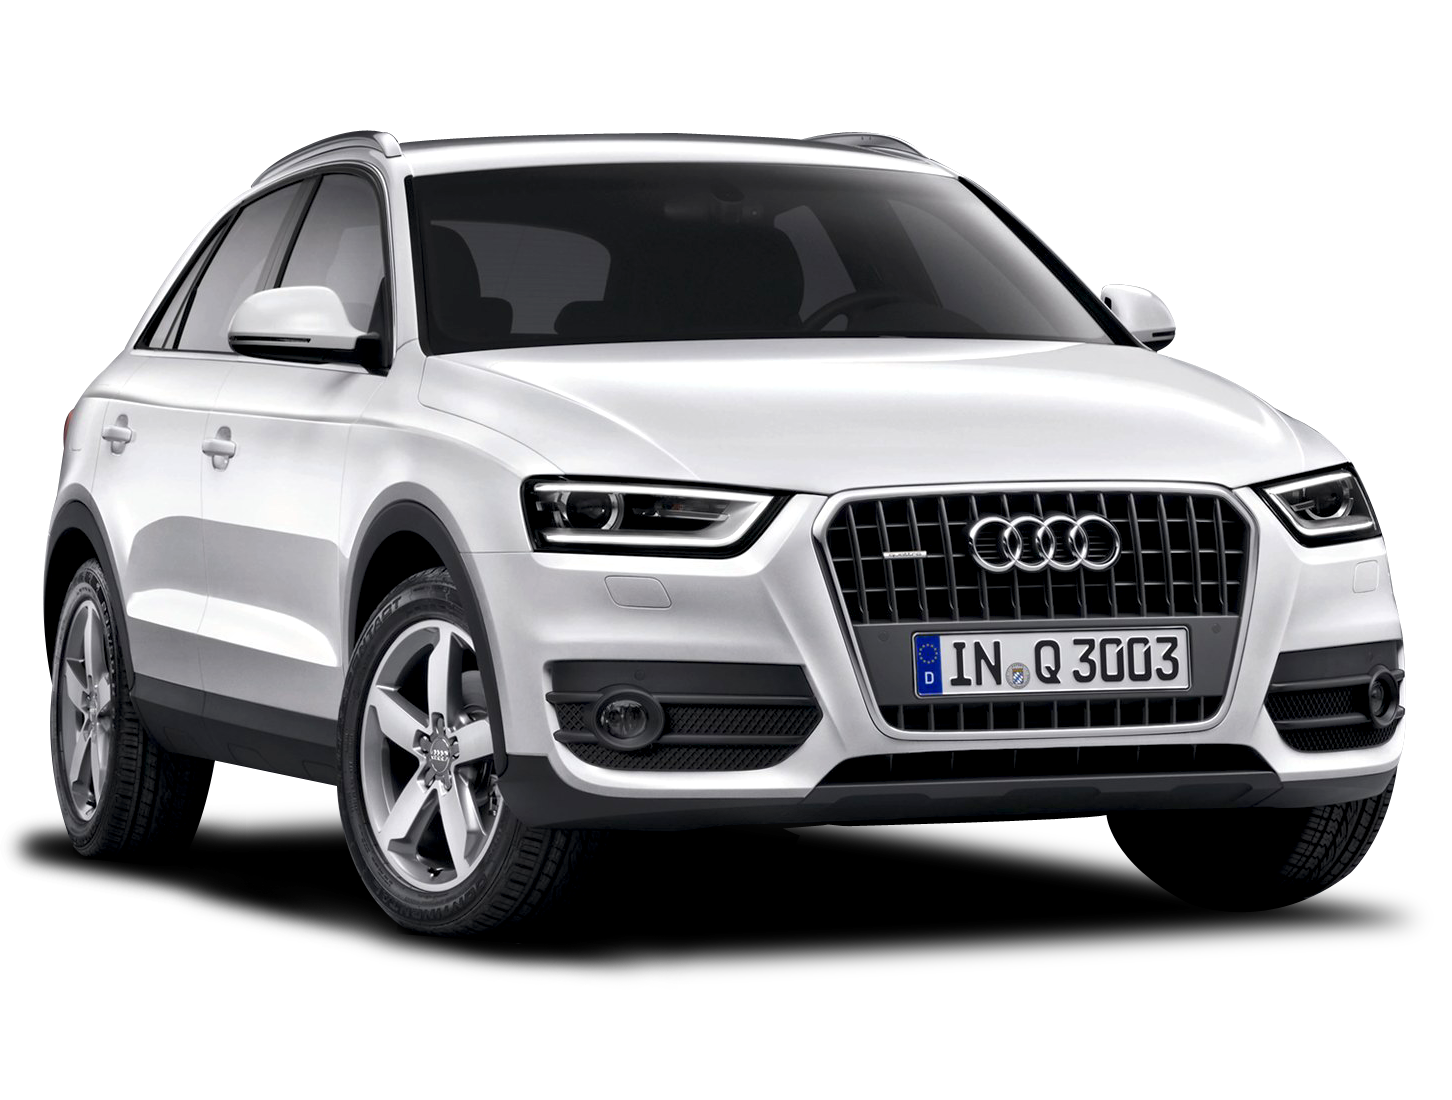P1_: (911, 633, 923, 643)
bbox: (912, 623, 1191, 701)
